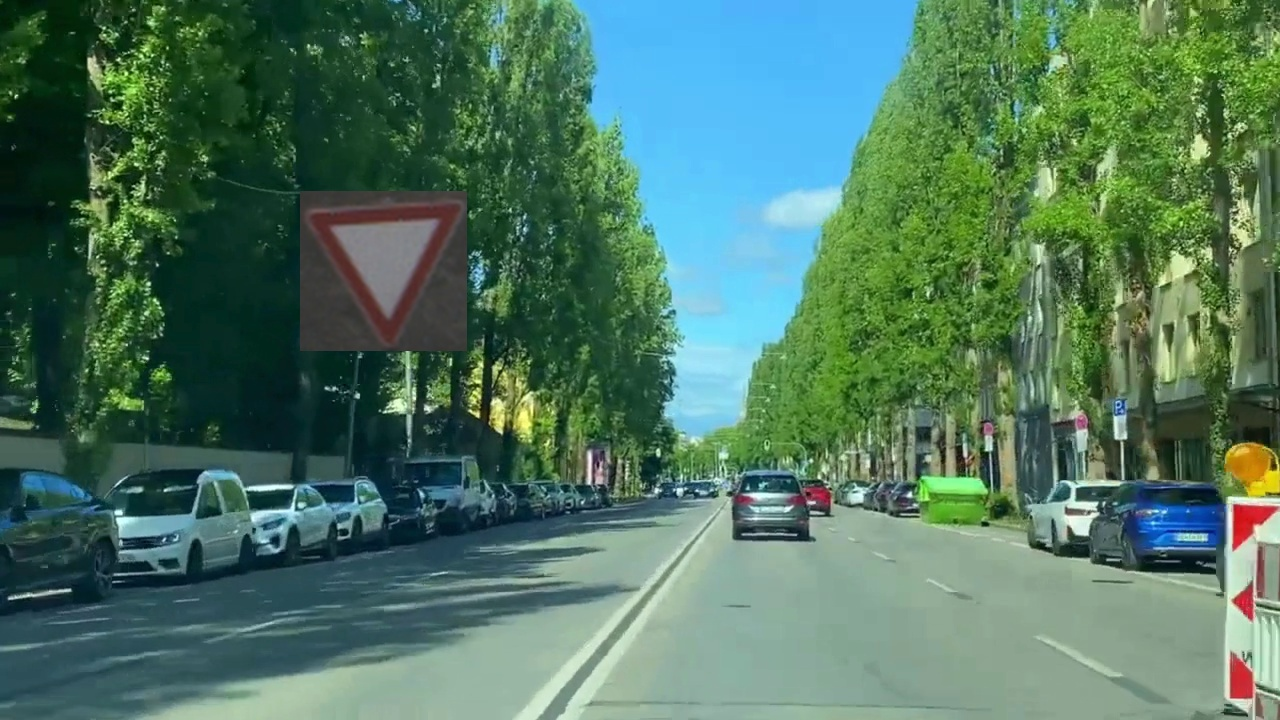Yield: (300, 191, 467, 351)
